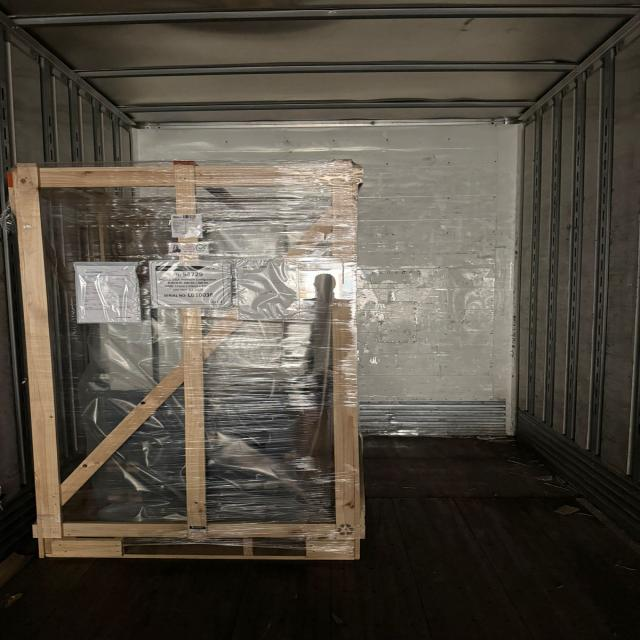15lx: (10, 160, 364, 559)
